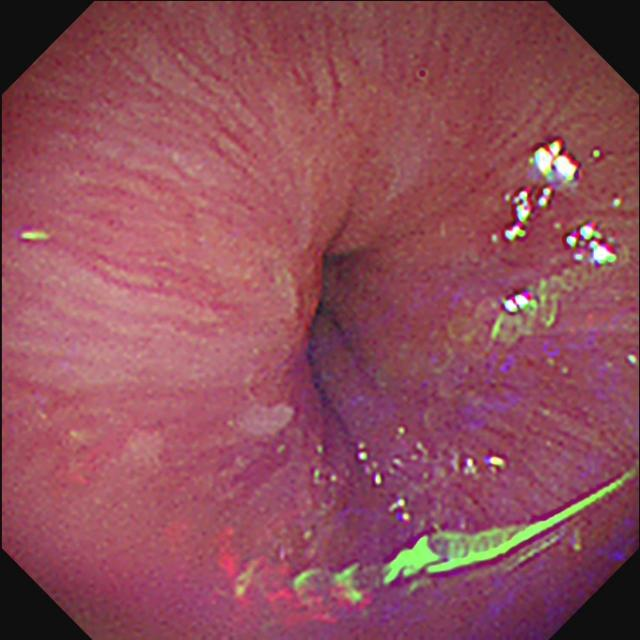U: (381, 470, 636, 594), (221, 549, 380, 625), (506, 139, 582, 243), (567, 222, 620, 267), (502, 293, 534, 318), (19, 229, 50, 243)
